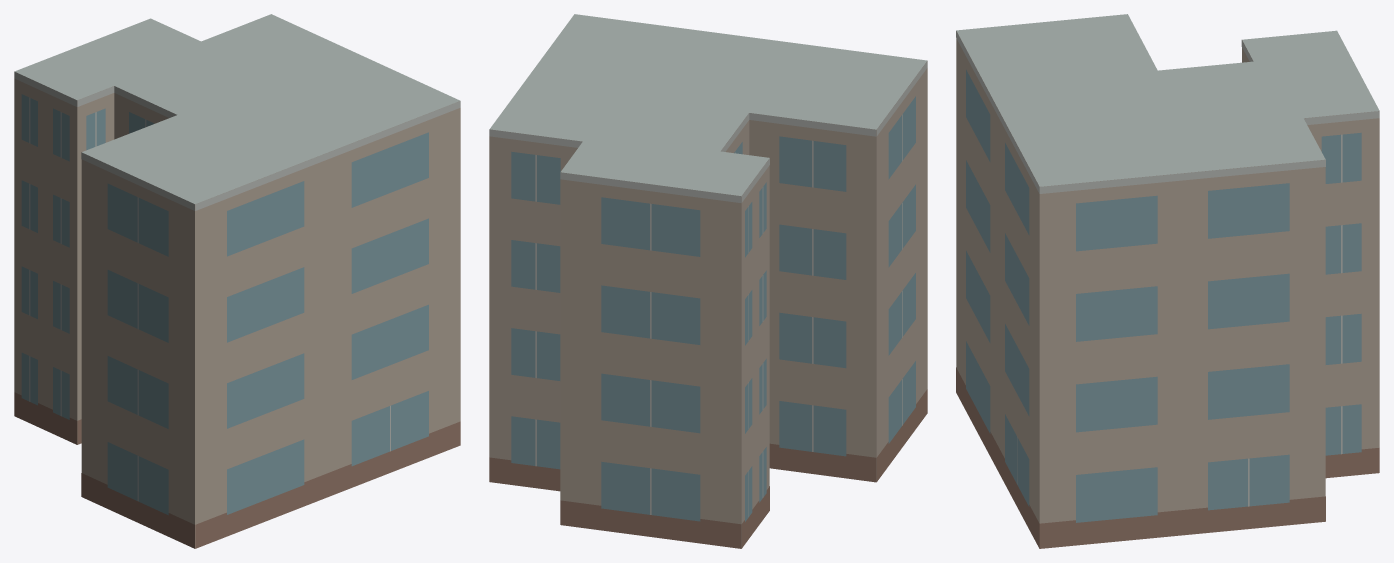
File: residential-bcb7851e-ca1f-4f11-9516-40ee26c8063b.glb
The picture shows the model from 3 angles, left to right: view 1: azimuth 30°, elevation 25°; view 2: azimuth 150°, elevation 25°; view 3: azimuth 270°, elevation 25°; orthographic projection. The views are drawn at different scales.
Parts seen in each view (by area): view 1: residential-bcb7851e-ca1f-4f11-9516-40ee26c8063b.tmp; view 2: residential-bcb7851e-ca1f-4f11-9516-40ee26c8063b.tmp; view 3: residential-bcb7851e-ca1f-4f11-9516-40ee26c8063b.tmp.
Boxes of the visible parts, <box> form: residential-bcb7851e-ca1f-4f11-9516-40ee26c8063b.tmp: <box>14,14,460,548</box>; residential-bcb7851e-ca1f-4f11-9516-40ee26c8063b.tmp: <box>489,14,927,548</box>; residential-bcb7851e-ca1f-4f11-9516-40ee26c8063b.tmp: <box>956,14,1379,548</box>.
Bounding box in the file's own units: 12.5 × 12.2 × 12.95.
